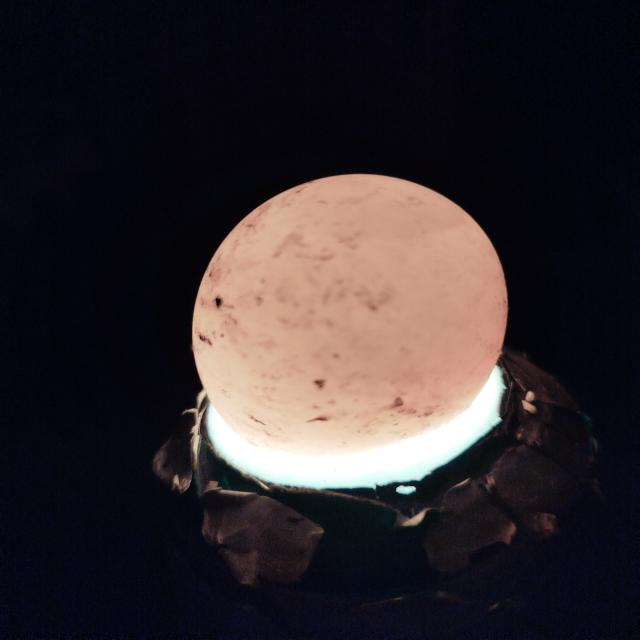Camara de Ar: (258, 174, 466, 242)
